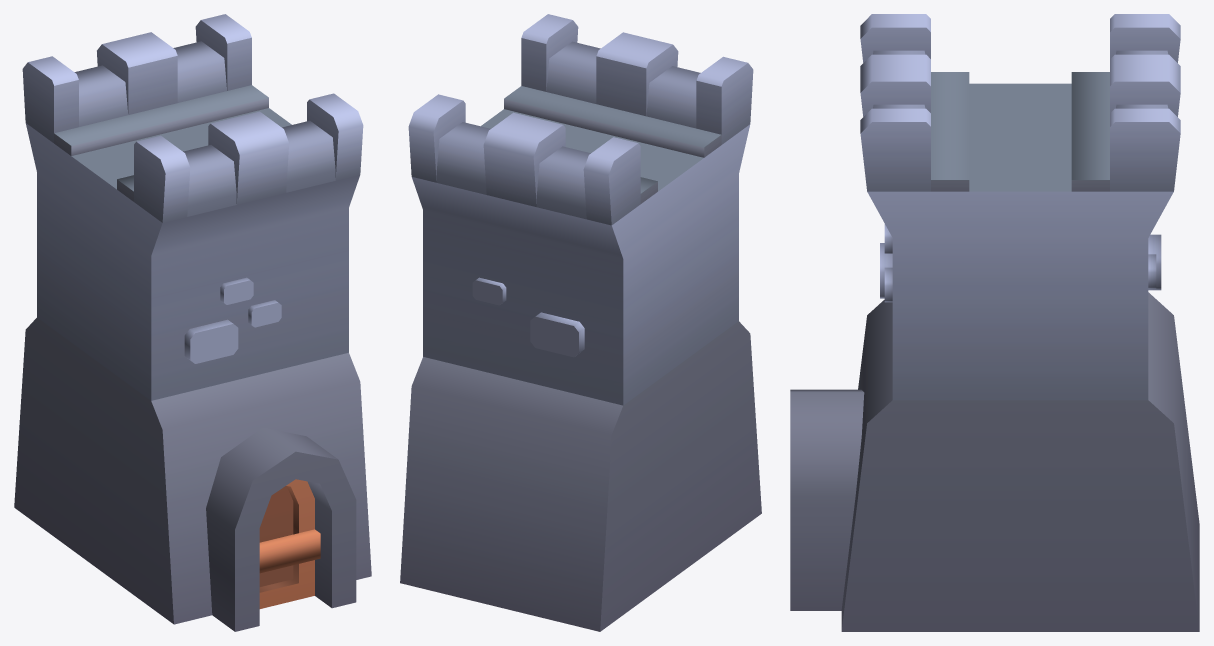
The model's file is castle-door.glb.
3 renders of one model, left to right at view 1: azimuth 30°, elevation 25°; view 2: azimuth 150°, elevation 25°; view 3: azimuth 270°, elevation 25°, orthographic. The views are drawn at different scales.
Visible parts, largest first — view 1: castle-door; view 2: castle-door; view 3: castle-door.
Part boxes in pixels (bbox=[...]): castle-door: bbox=[14, 14, 371, 631]; castle-door: bbox=[400, 14, 761, 631]; castle-door: bbox=[790, 14, 1199, 631].
Size of the model in its own units: 2 by 4.4 by 3.2.
Materials: 1 (1 with a texture image).
